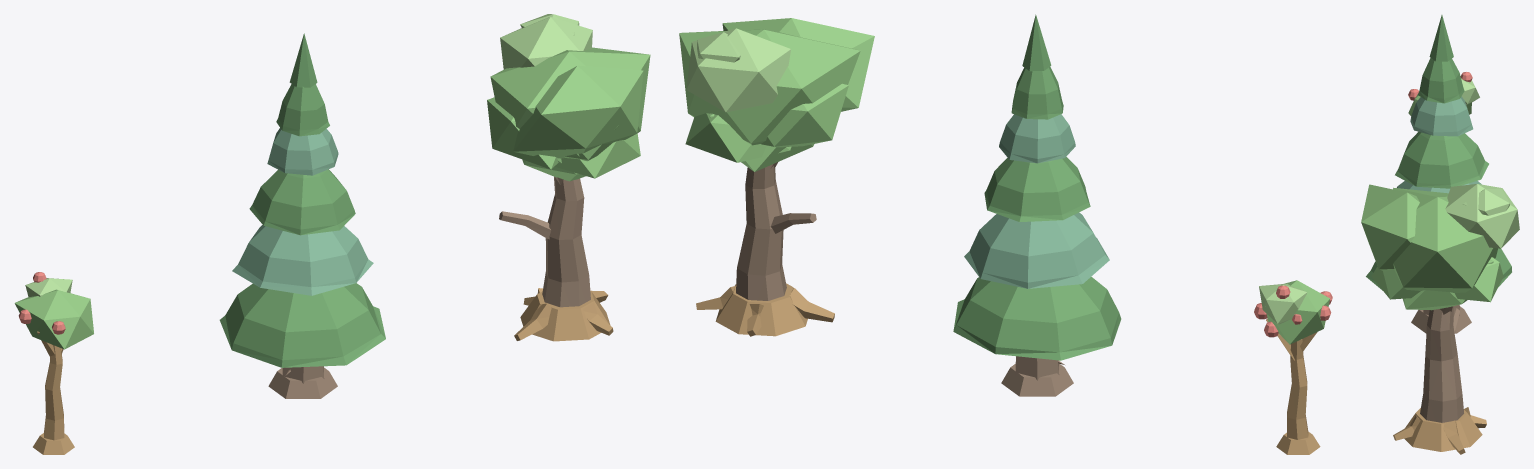
The model's file is Tree.fbx.
3 views of the same model, side by side, from view 1: azimuth 30°, elevation 25°; view 2: azimuth 150°, elevation 25°; view 3: azimuth 270°, elevation 25° (orthographic). The views are drawn at different scales.
Visible parts, largest first — view 1: Tree.B_CanopyDark, Tree.A_CrownBody, Tree.B_CanopyBlue, Tree.A_Trunk, Tree.A_CrownSun, Tree.A_Roots, Tree.C_CrownBody, Tree.C_Trunk, Tree.B_Trunk, Tree.C_CrownSun; view 2: Tree.B_CanopyDark, Tree.A_CrownBody, Tree.B_CanopyBlue, Tree.A_CrownSun, Tree.A_Trunk, Tree.A_Roots, Tree.C_Trunk, Tree.B_Trunk, Tree.C_CrownBody, Tree.C_CrownSun, Tree.C_Fruit; view 3: Tree.A_CrownBody, Tree.B_CanopyDark, Tree.A_Trunk, Tree.A_CrownSun, Tree.A_Roots, Tree.B_CanopyBlue, Tree.B_Trunk, Tree.C_CrownSun, Tree.C_Fruit.
Part boxes in pixels (bbox=[...]): Tree.B_CanopyDark: bbox=[219, 33, 385, 367]; Tree.A_CrownBody: bbox=[487, 47, 650, 181]; Tree.B_CanopyBlue: bbox=[232, 128, 373, 295]; Tree.A_Trunk: bbox=[499, 176, 590, 307]; Tree.A_CrownSun: bbox=[500, 14, 592, 69]; Tree.A_Roots: bbox=[514, 288, 613, 341]; Tree.C_CrownBody: bbox=[14, 289, 93, 349]; Tree.C_Trunk: bbox=[33, 331, 74, 454]; Tree.B_Trunk: bbox=[268, 366, 337, 398]; Tree.C_CrownSun: bbox=[25, 278, 72, 296]; Tree.B_CanopyDark: bbox=[953, 14, 1121, 360]; Tree.A_CrownBody: bbox=[679, 18, 874, 171]; Tree.B_CanopyBlue: bbox=[964, 114, 1109, 288]; Tree.A_CrownSun: bbox=[686, 28, 790, 112]; Tree.A_Trunk: bbox=[736, 162, 816, 300]; Tree.A_Roots: bbox=[696, 283, 834, 336]; Tree.C_Trunk: bbox=[1266, 319, 1320, 454]; Tree.B_Trunk: bbox=[1001, 356, 1073, 396]; Tree.C_CrownBody: bbox=[1266, 280, 1329, 344]; Tree.C_CrownSun: bbox=[1259, 283, 1307, 324]; Tree.C_Fruit: bbox=[1254, 285, 1332, 337]; Tree.A_CrownBody: bbox=[1361, 184, 1503, 310]; Tree.B_CanopyDark: bbox=[1366, 15, 1511, 290]; Tree.A_Trunk: bbox=[1420, 306, 1463, 422]; Tree.A_CrownSun: bbox=[1445, 184, 1519, 248]; Tree.A_Roots: bbox=[1393, 407, 1486, 454]; Tree.B_CanopyBlue: bbox=[1397, 96, 1481, 193]; Tree.B_Trunk: bbox=[1411, 305, 1471, 333]; Tree.C_CrownSun: bbox=[1461, 78, 1479, 104]; Tree.C_Fruit: bbox=[1408, 72, 1472, 100].
Size of the model in its own units: 23.88 by 12.85 by 5.98.
